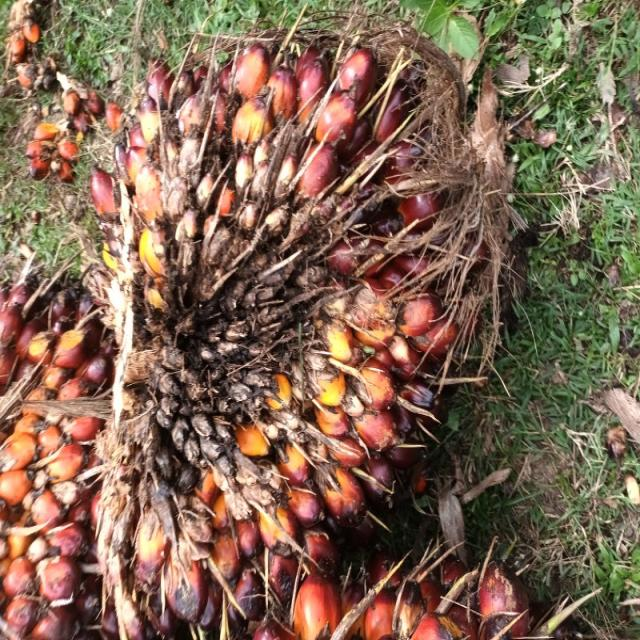fraksi 1: (62, 115, 480, 640)
